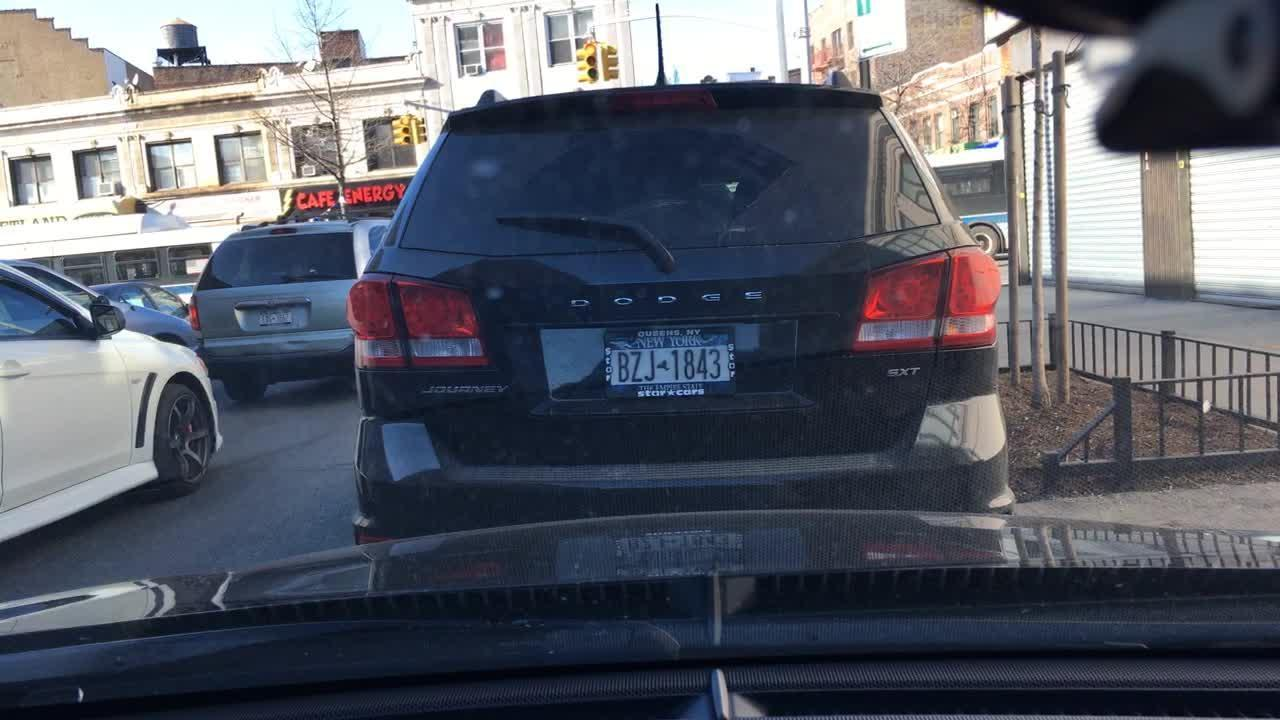dodge: (548, 271, 811, 320)
